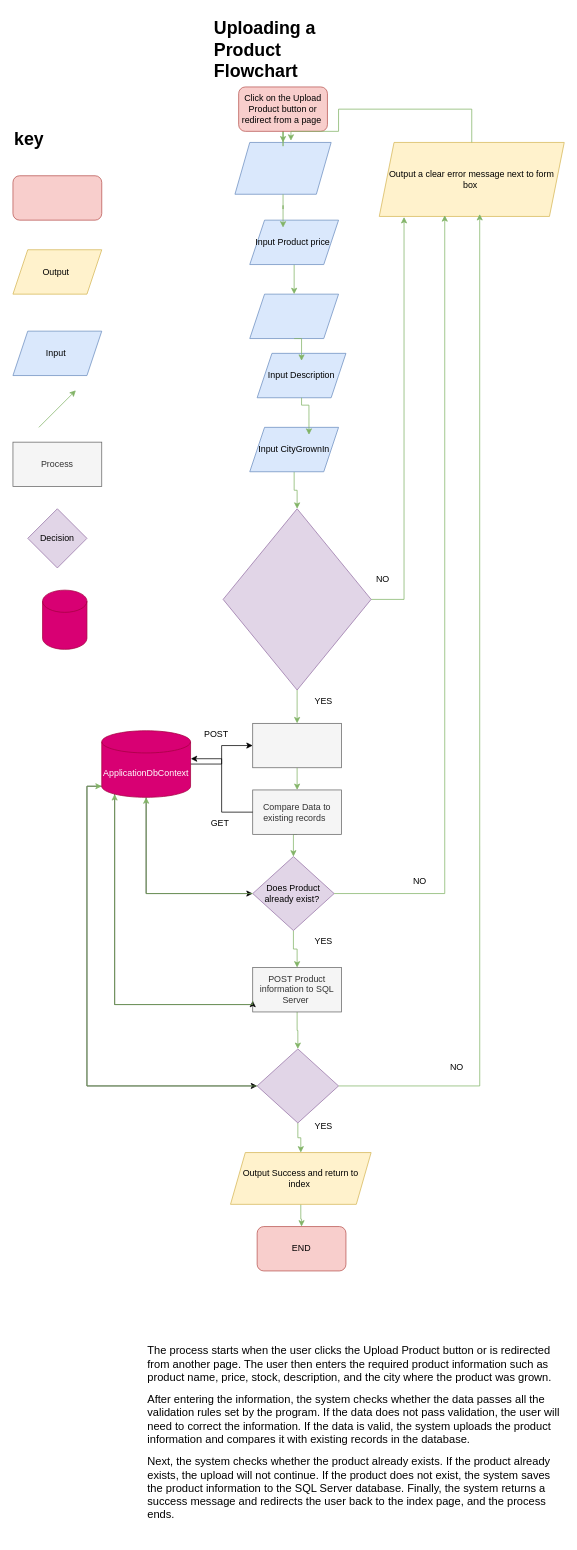
Image size: 577x1550. Some labels were removed from this diagram. Each missing label, with the centre of its shape:
Data Base: the point at 64,619
Does the data pass all validation rules set by the program ?: the point at 296,599
Does the product exist?: the point at 297,1085
Input Product Name: the point at 282,168
Input Stock: the point at 294,316
POST Upload: the point at 297,745
Start/End: the point at 57,197
